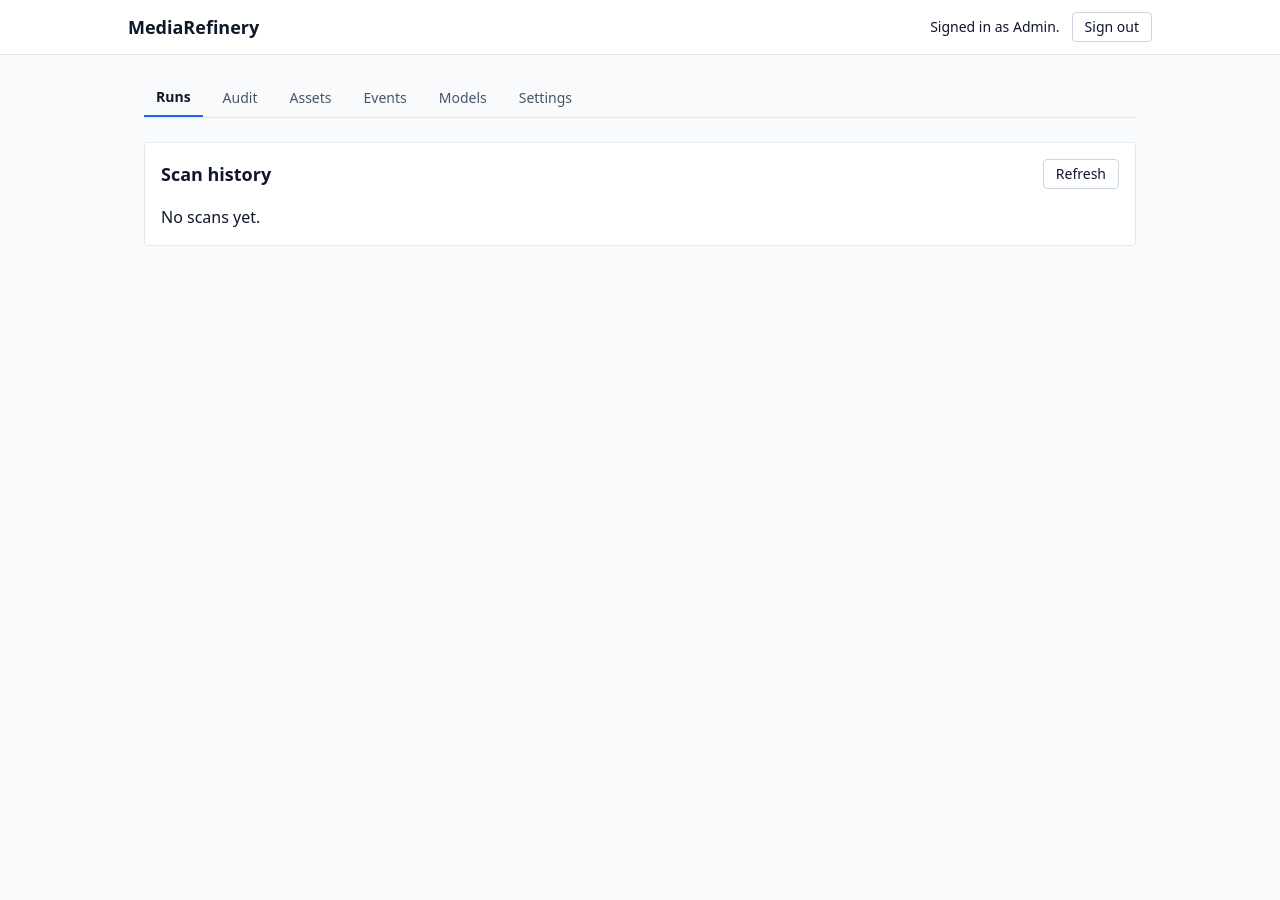
Test: ModelsTab — render and actions › lists installed and catalog entries with active marker
Click the tab "Models" at {"x": 463, "y": 98}, box [427,79,499,117]
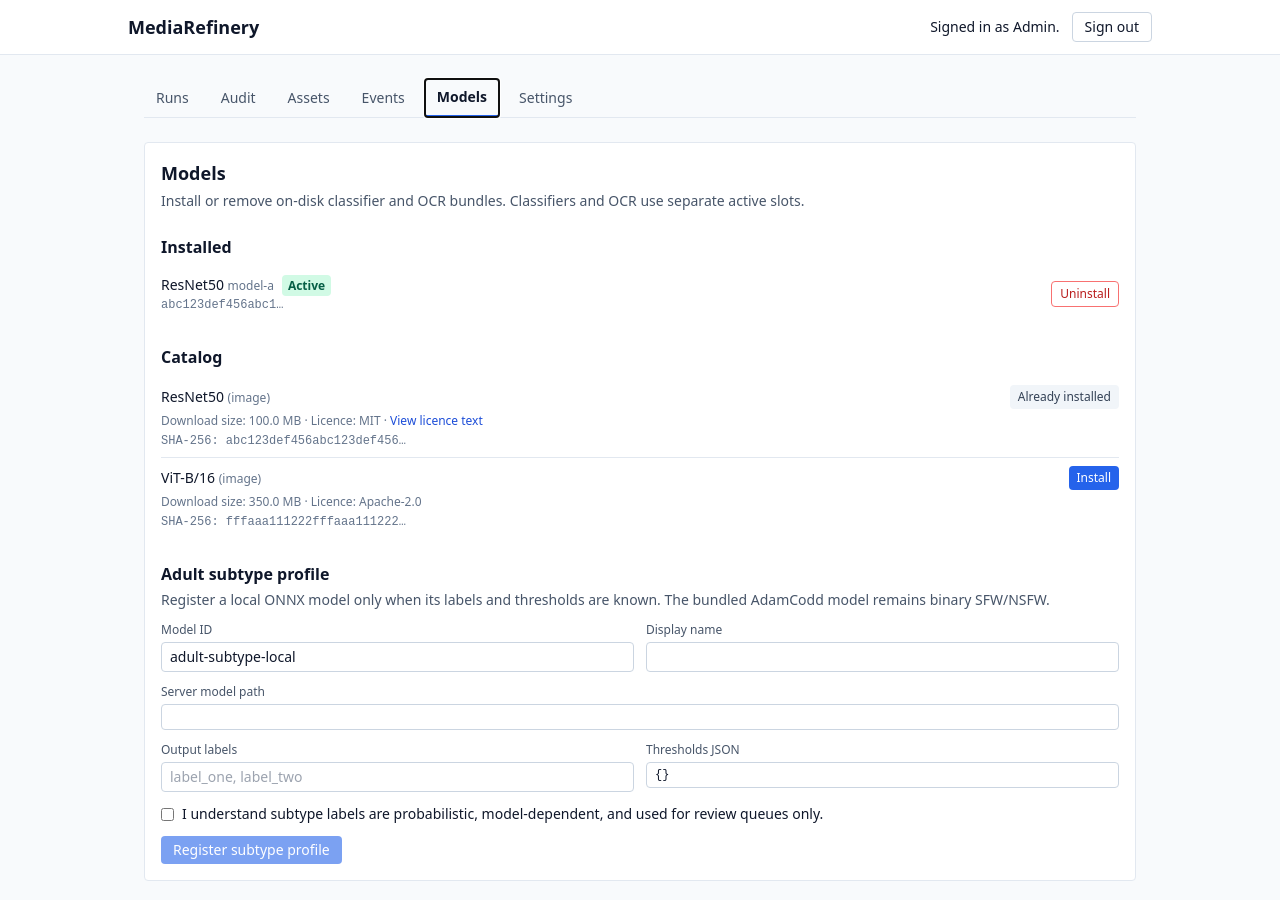
Check: the text "Active" is shown, box [282,275,331,296]
Check: the text "ViT-B/16" is shown, box [161,468,215,487]
Check: the text "Already installed" is shown, box [1010,385,1119,409]
